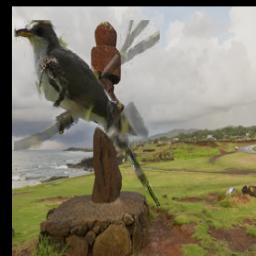Cuckoo: (15, 21, 161, 209)
